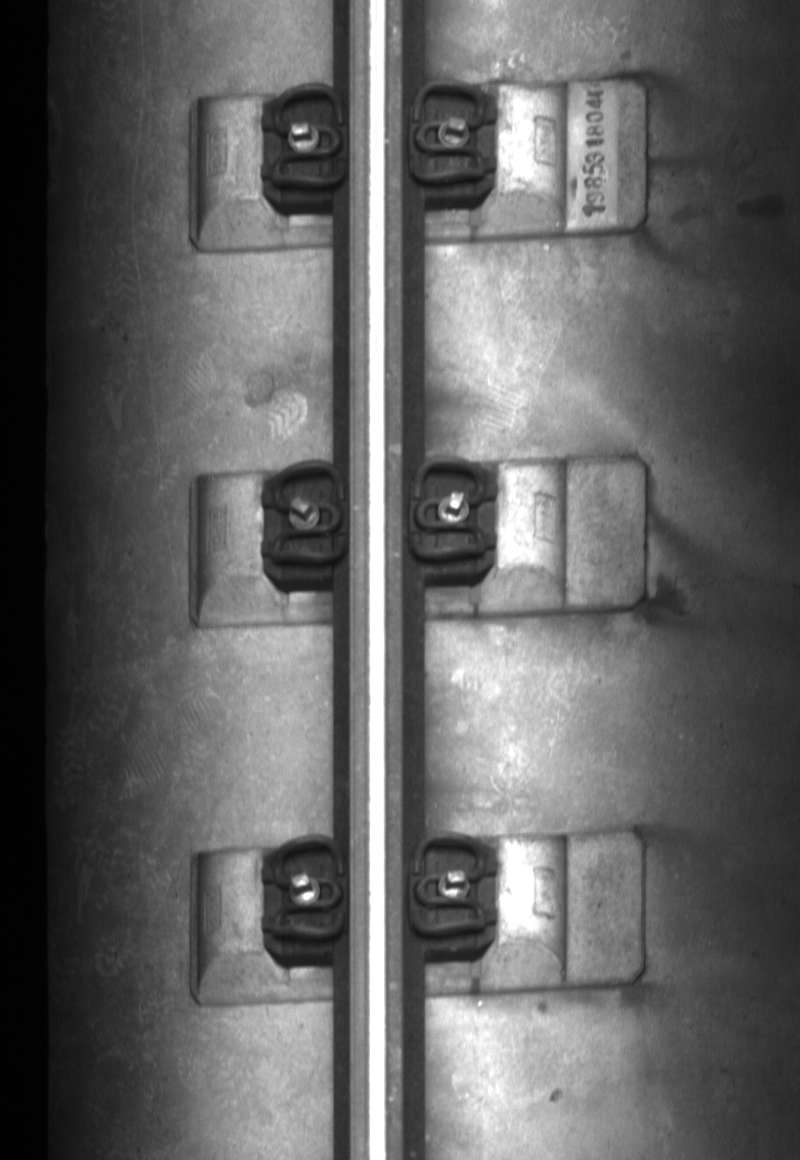l_faster: (261, 457, 349, 576), (265, 831, 349, 943), (264, 82, 348, 193)
r_faster: (407, 449, 493, 568), (403, 78, 492, 192), (407, 827, 493, 943)
